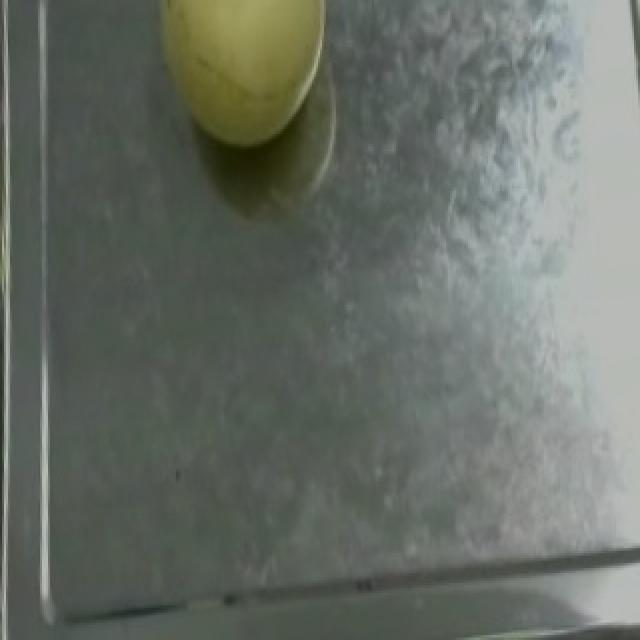Fruit: (140, 0, 340, 156)
